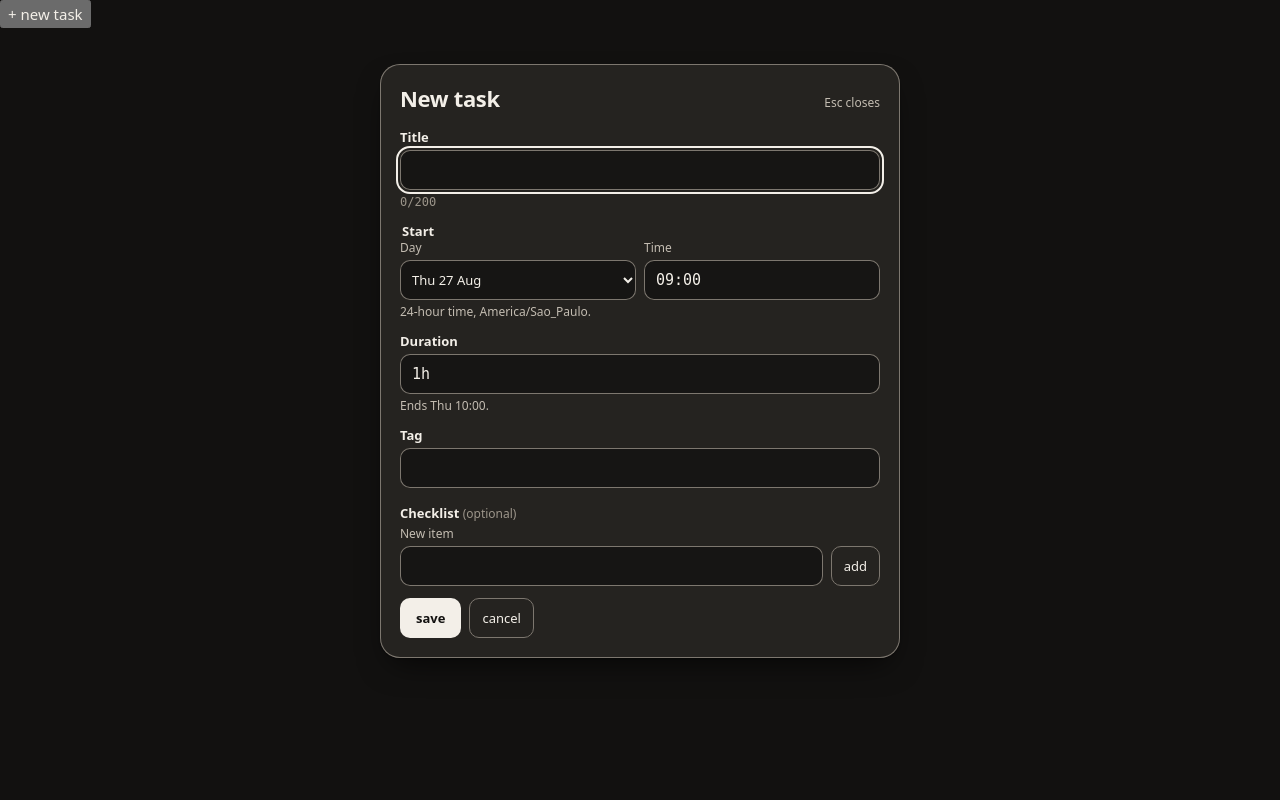
Scenario: says what is wrong beside each field, and takes focus to the first
Replace the text in the field labelled "Duration" with "forever". click: {"x": 640, "y": 374}
box: left=400, top=354, right=880, bottom=394
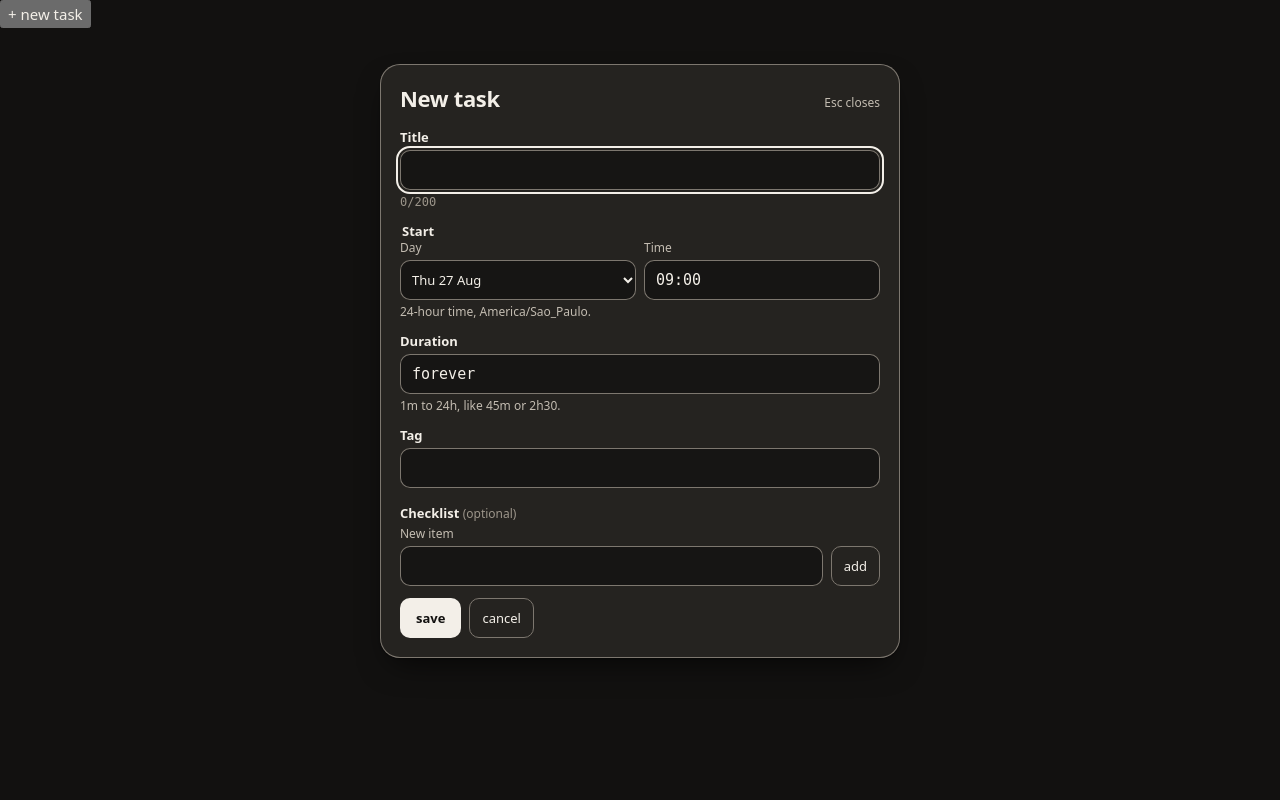
Click the button "save". click: {"x": 431, "y": 618}
box: left=400, top=598, right=461, bottom=638
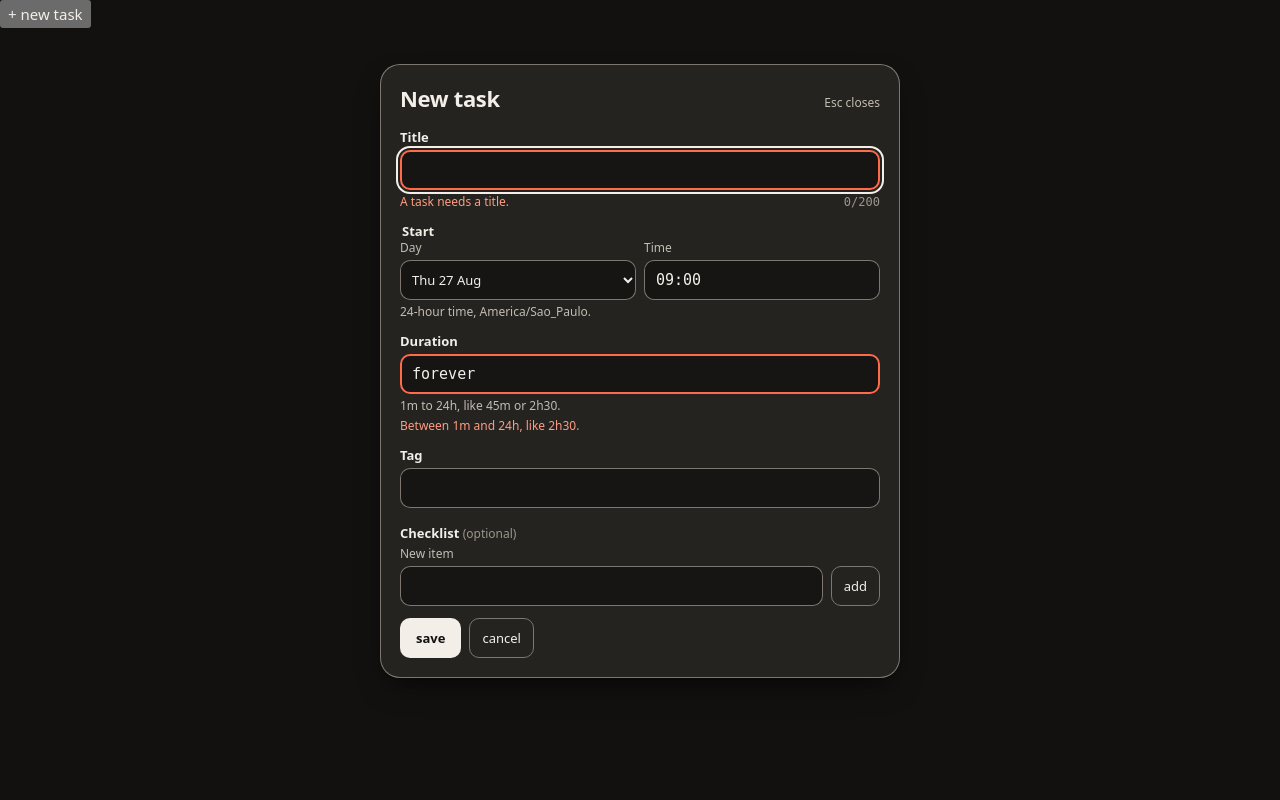
Result: the text "A task needs a title." is shown at left=400, top=194, right=509, bottom=210
Result: the text "Between 1m and 24h, like 2h30." is shown at left=400, top=417, right=580, bottom=434
